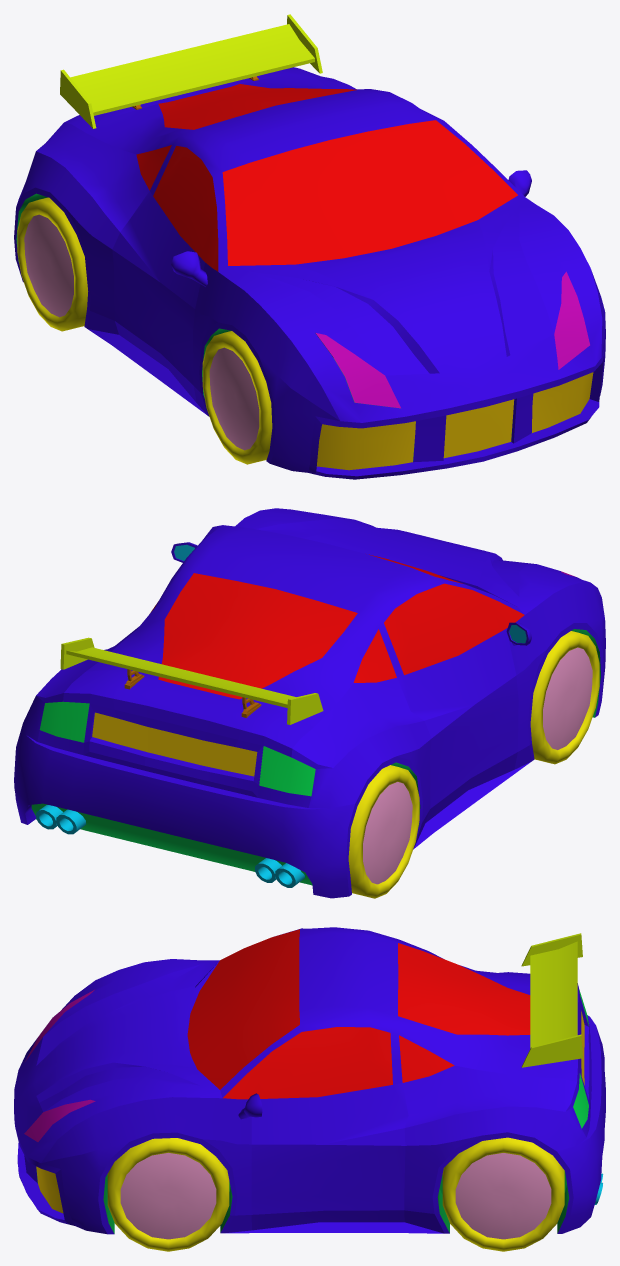
File: 04_AzureusCrimson_ColorCoded.fbx
3 renders of one model, top to bottom at view 1: azimuth 30°, elevation 25°; view 2: azimuth 150°, elevation 25°; view 3: azimuth 270°, elevation 25°, orthographic. The views are drawn at different scales.
Visible parts, largest first — view 1: Body, Spoiler, tireBackR, tireFrontR; view 2: Body, tireBackR, tireFrontR, Spoiler; view 3: Body, tireBackL, tireFrontL, Spoiler.
Part boxes in pixels (left/top/right/bottom): Body: left=14, top=67, right=605, bottom=479; Spoiler: left=60, top=14, right=322, bottom=128; tireBackR: left=17, top=197, right=88, bottom=331; tireFrontR: left=202, top=331, right=272, bottom=464; Body: left=14, top=508, right=605, bottom=898; tireBackR: left=348, top=765, right=419, bottom=898; tireFrontR: left=530, top=631, right=599, bottom=764; Spoiler: left=60, top=637, right=323, bottom=724; Body: left=14, top=927, right=605, bottom=1234; tireBackL: left=442, top=1137, right=564, bottom=1251; tireFrontL: left=107, top=1138, right=229, bottom=1251; Spoiler: left=521, top=933, right=582, bottom=1067.
Size of the model in its own units: 69.57 by 109 by 43.14.
